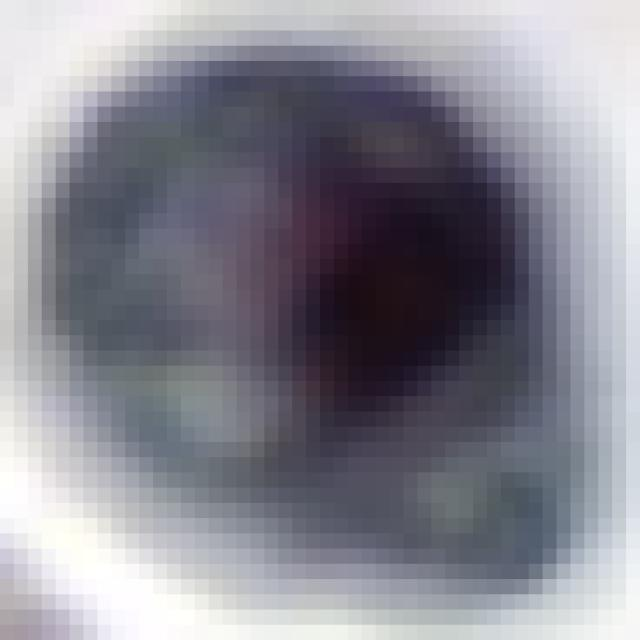nucleus: (239, 111, 550, 450)
